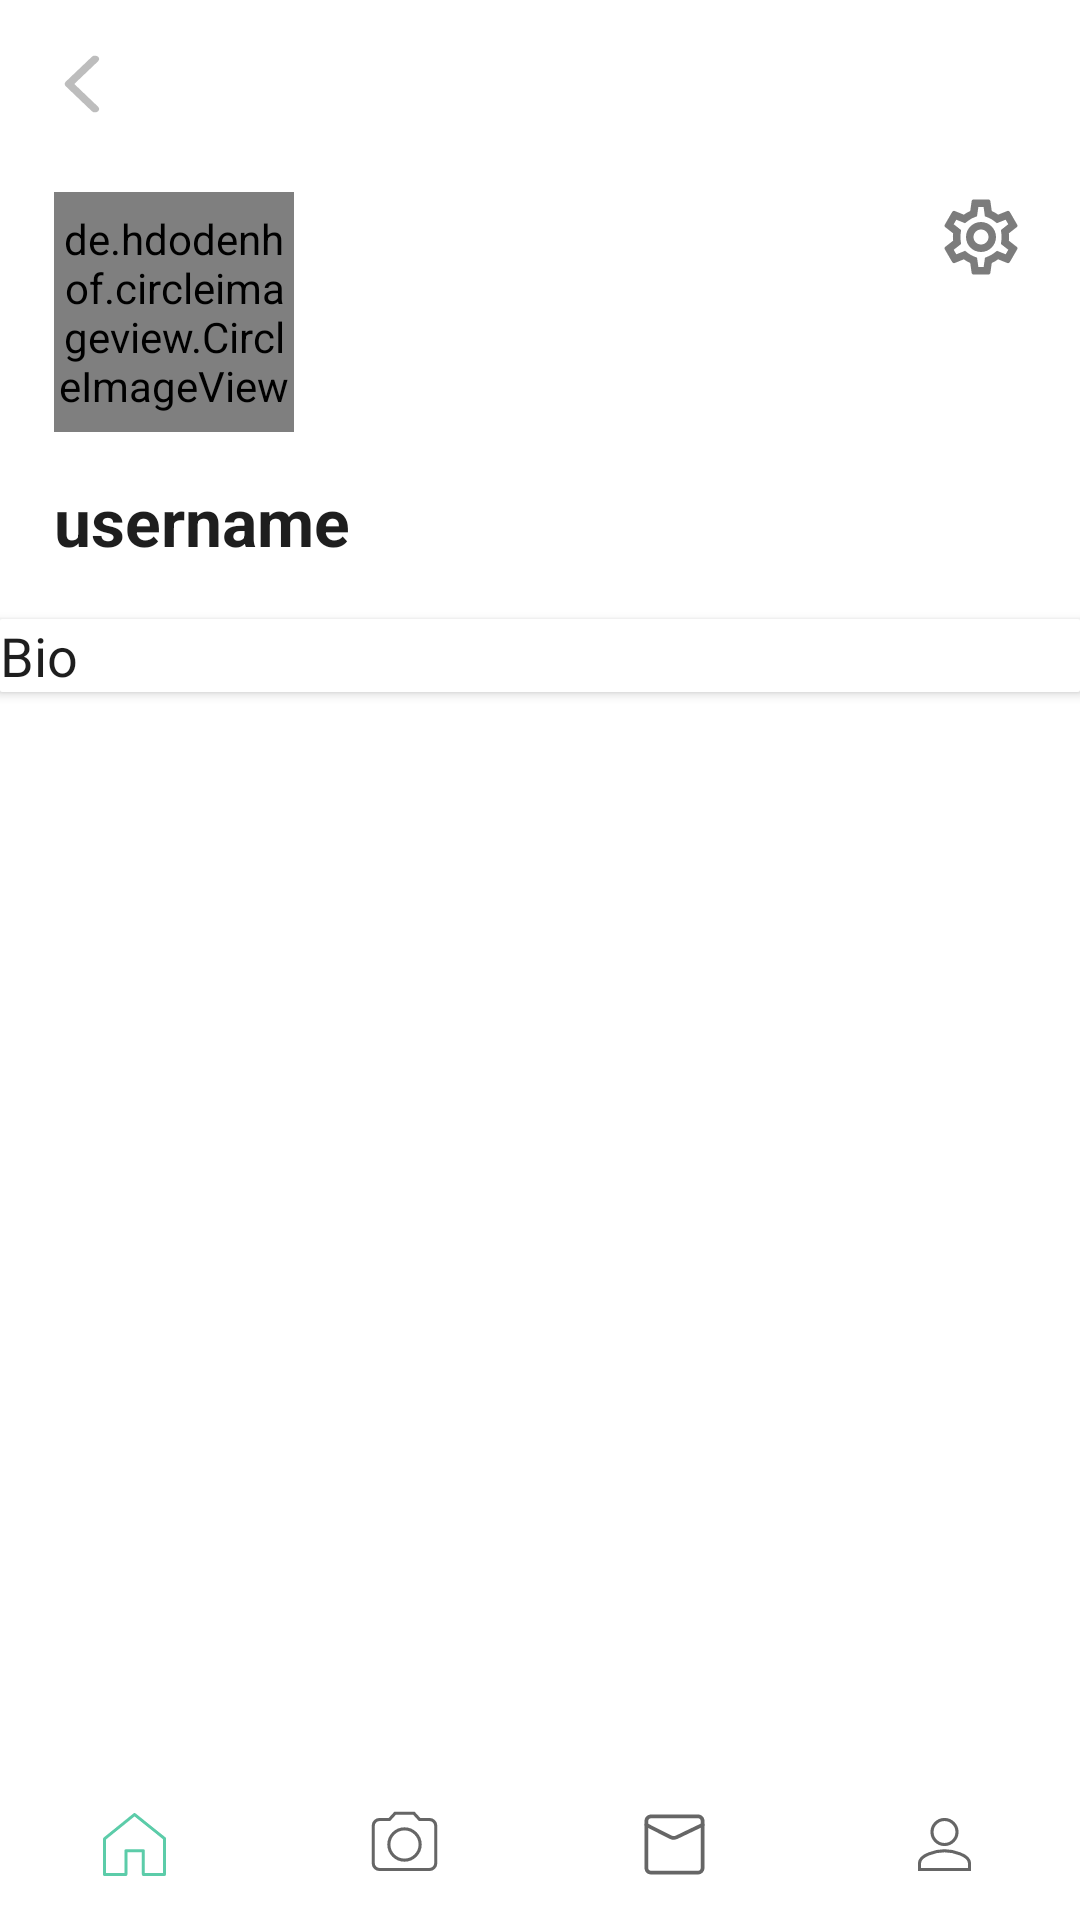

Screen size 1080*1920. Icon name, then its center in pixels as point (x, y):
settings: point (981, 237)
